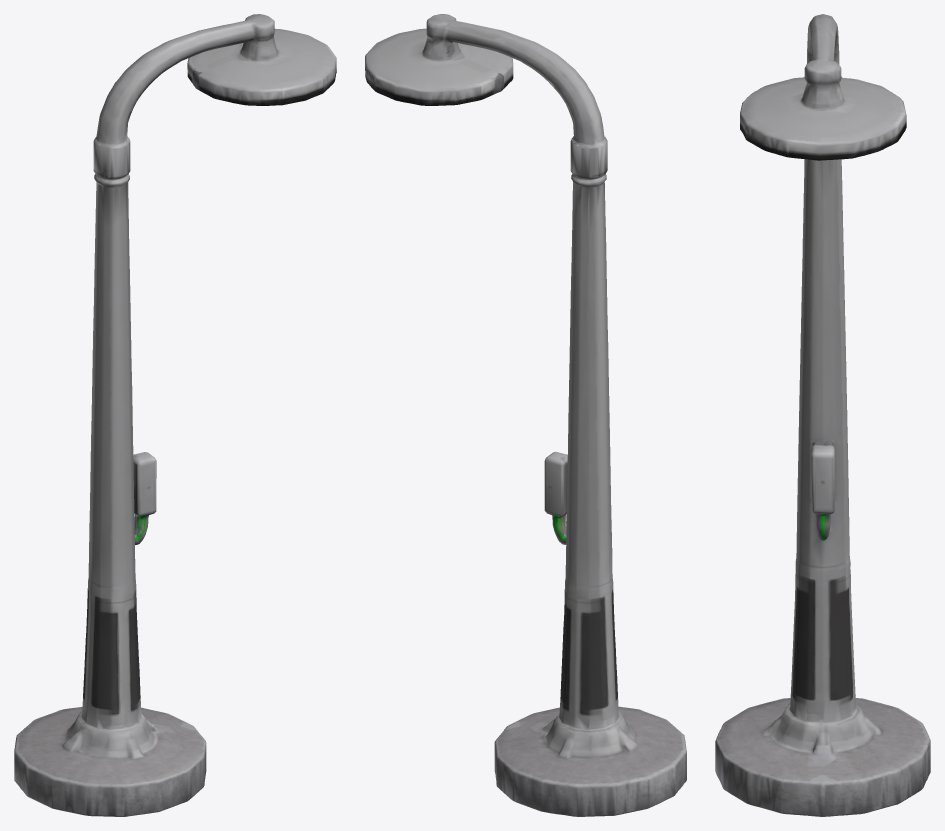
File: lamp.glb
3 renders of one model, left to right at view 1: azimuth 30°, elevation 25°; view 2: azimuth 150°, elevation 25°; view 3: azimuth 270°, elevation 25°, orthographic. The views are drawn at different scales.
Parts seen in each view (by area): view 1: low; view 2: low; view 3: low.
Part boxes in pixels (x1,y1,x2,y2): low: [14, 14, 336, 816]; low: [365, 14, 686, 816]; low: [715, 14, 930, 816].
Bounding box in the file's own units: 0.8133 × 1.87 × 0.4628.
Materials: 1 (1 with a texture image).
